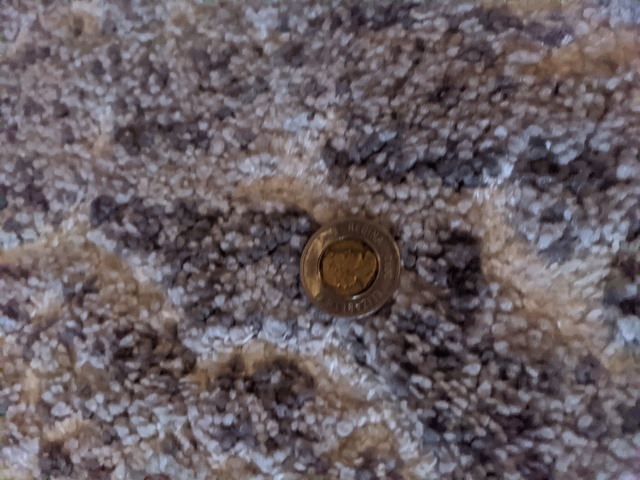twonie: (293, 203, 405, 327)
